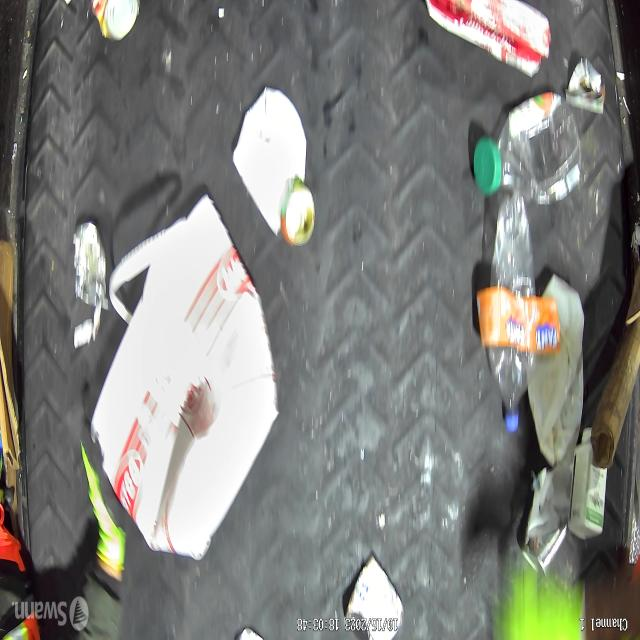can: (341, 555, 405, 640), (279, 172, 317, 244), (72, 225, 106, 305), (92, 0, 140, 45)
plastic_bottle: (483, 196, 534, 438), (495, 91, 582, 208)
